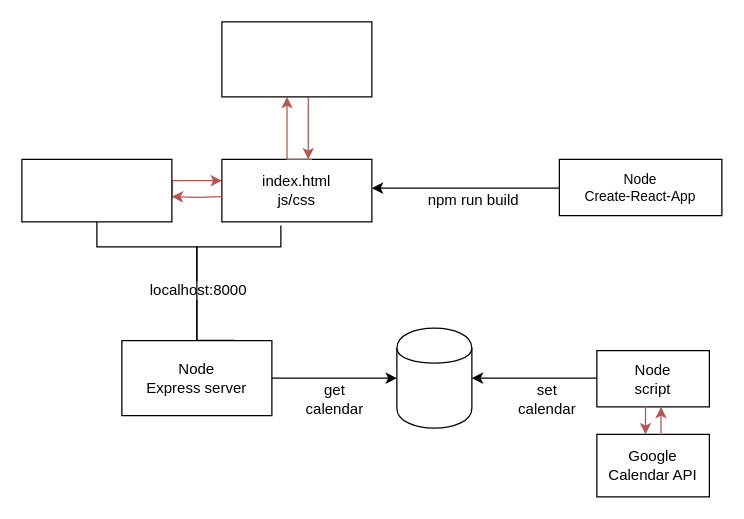
Image size: 744x519. Some labels were removed from this diagram. Each missing label, with the centre of its shape:
"/getEvents" goes at point 96,190.
"OpenWeatherMap API" goes at point 296,59.
"redis" goes at point 434,377.
